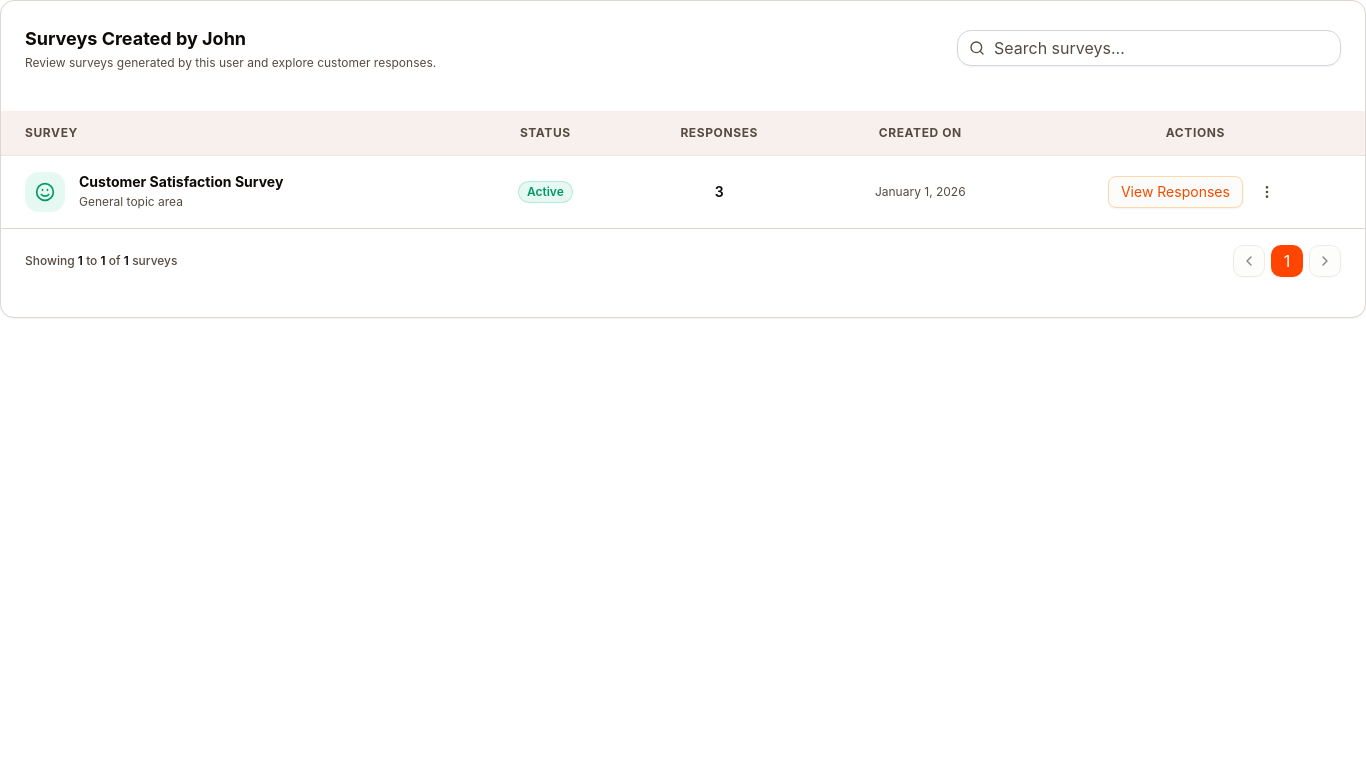
it: AdminUserSurveysTable themes and interactions › updates the search query and shows the responses modal
Type "prod" into the search field with placeholder "Search surveys..." at (1149, 48), box [957, 30, 1341, 66]
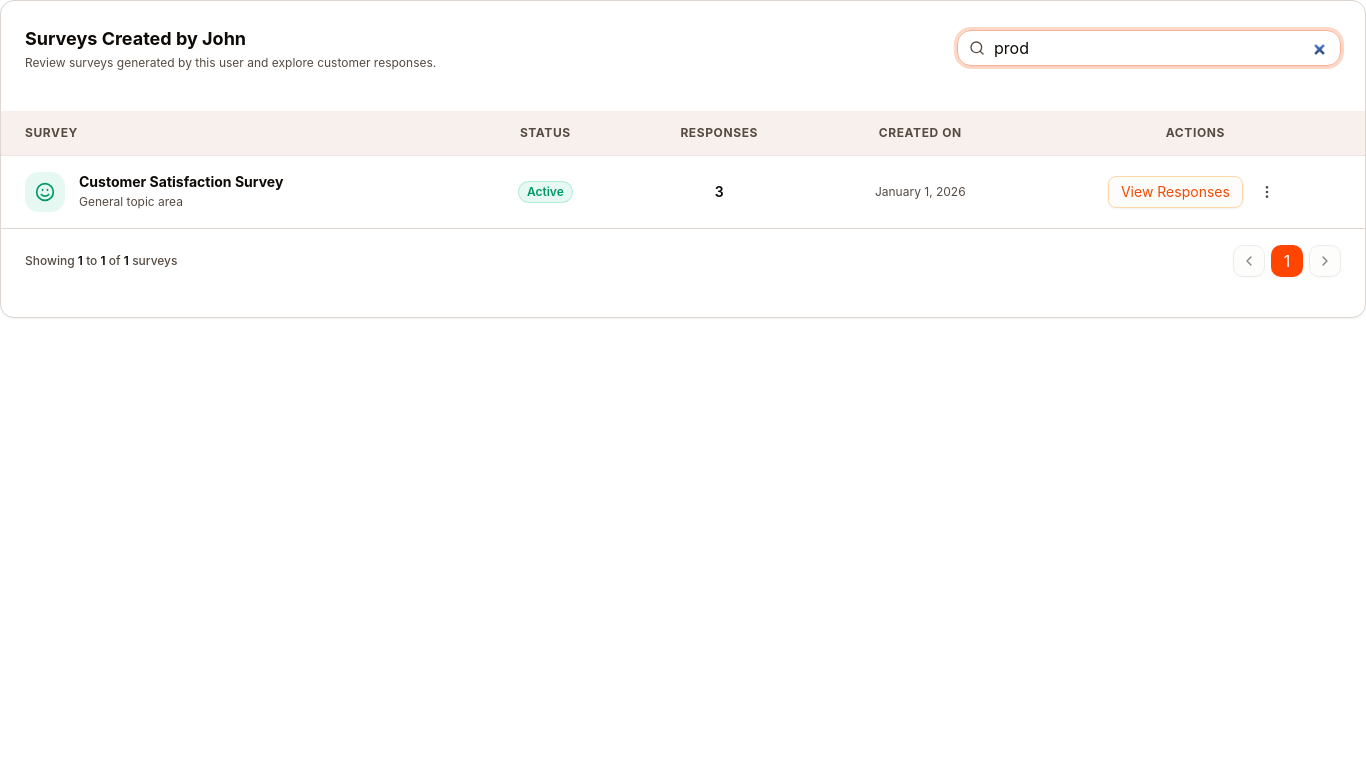
Click the button "View Responses" at (1175, 192), box [1108, 176, 1243, 208]
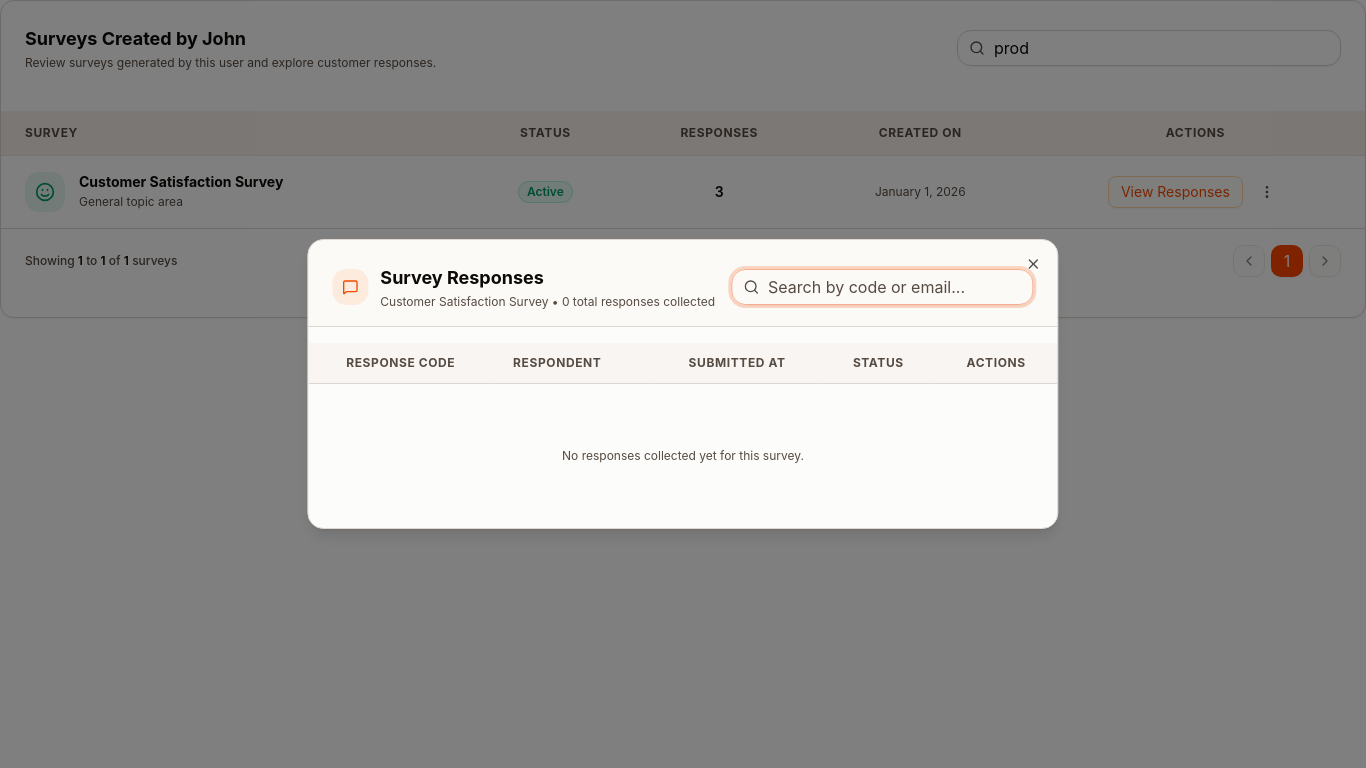
expect the dialog is shown: met, box [307, 239, 1059, 529]
Press Escape
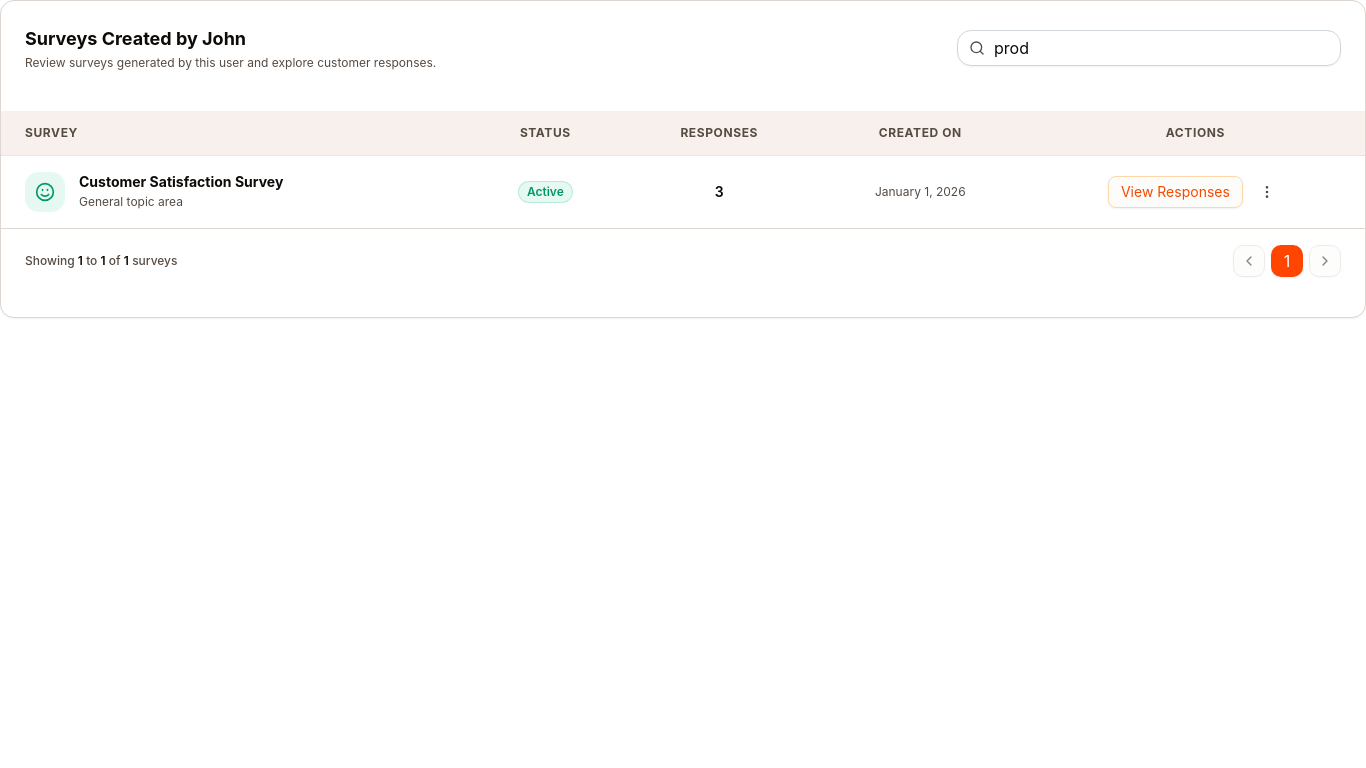
expect the dialog is gone: met
